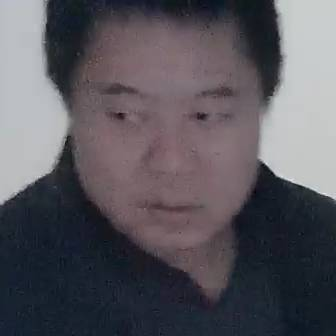caibo: (58, 3, 285, 261)
